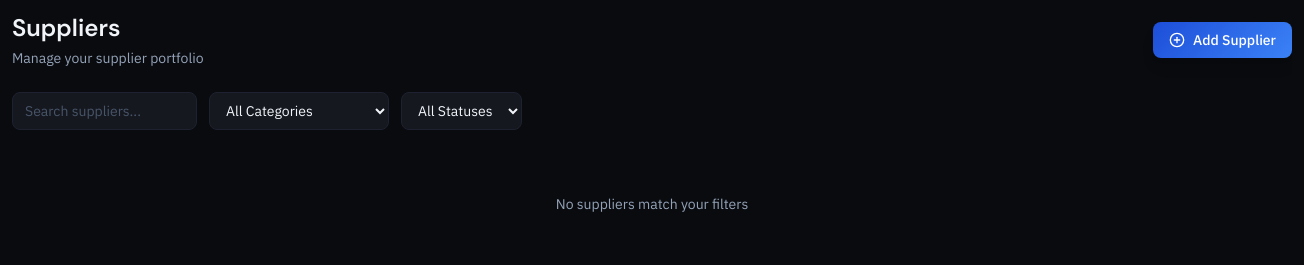
Suppliers › filters suppliers by search text
Type "atlas" into the field with placeholder "Search suppliers..." at {"x": 104, "y": 111}, box x1=12 y1=92 x2=197 y2=130
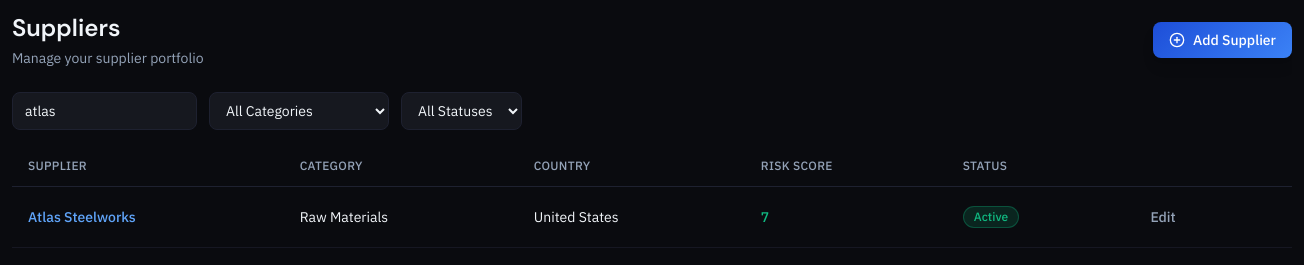
Expected: the link "Atlas Steelworks" is shown, x1=28 y1=208 x2=136 y2=226
